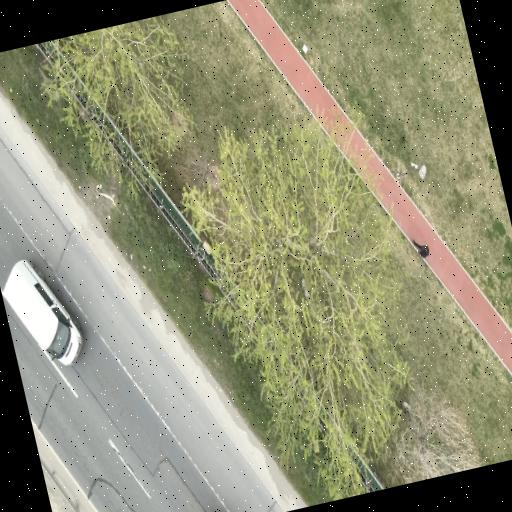car: (3, 259, 82, 364)
person: (413, 239, 429, 257)
